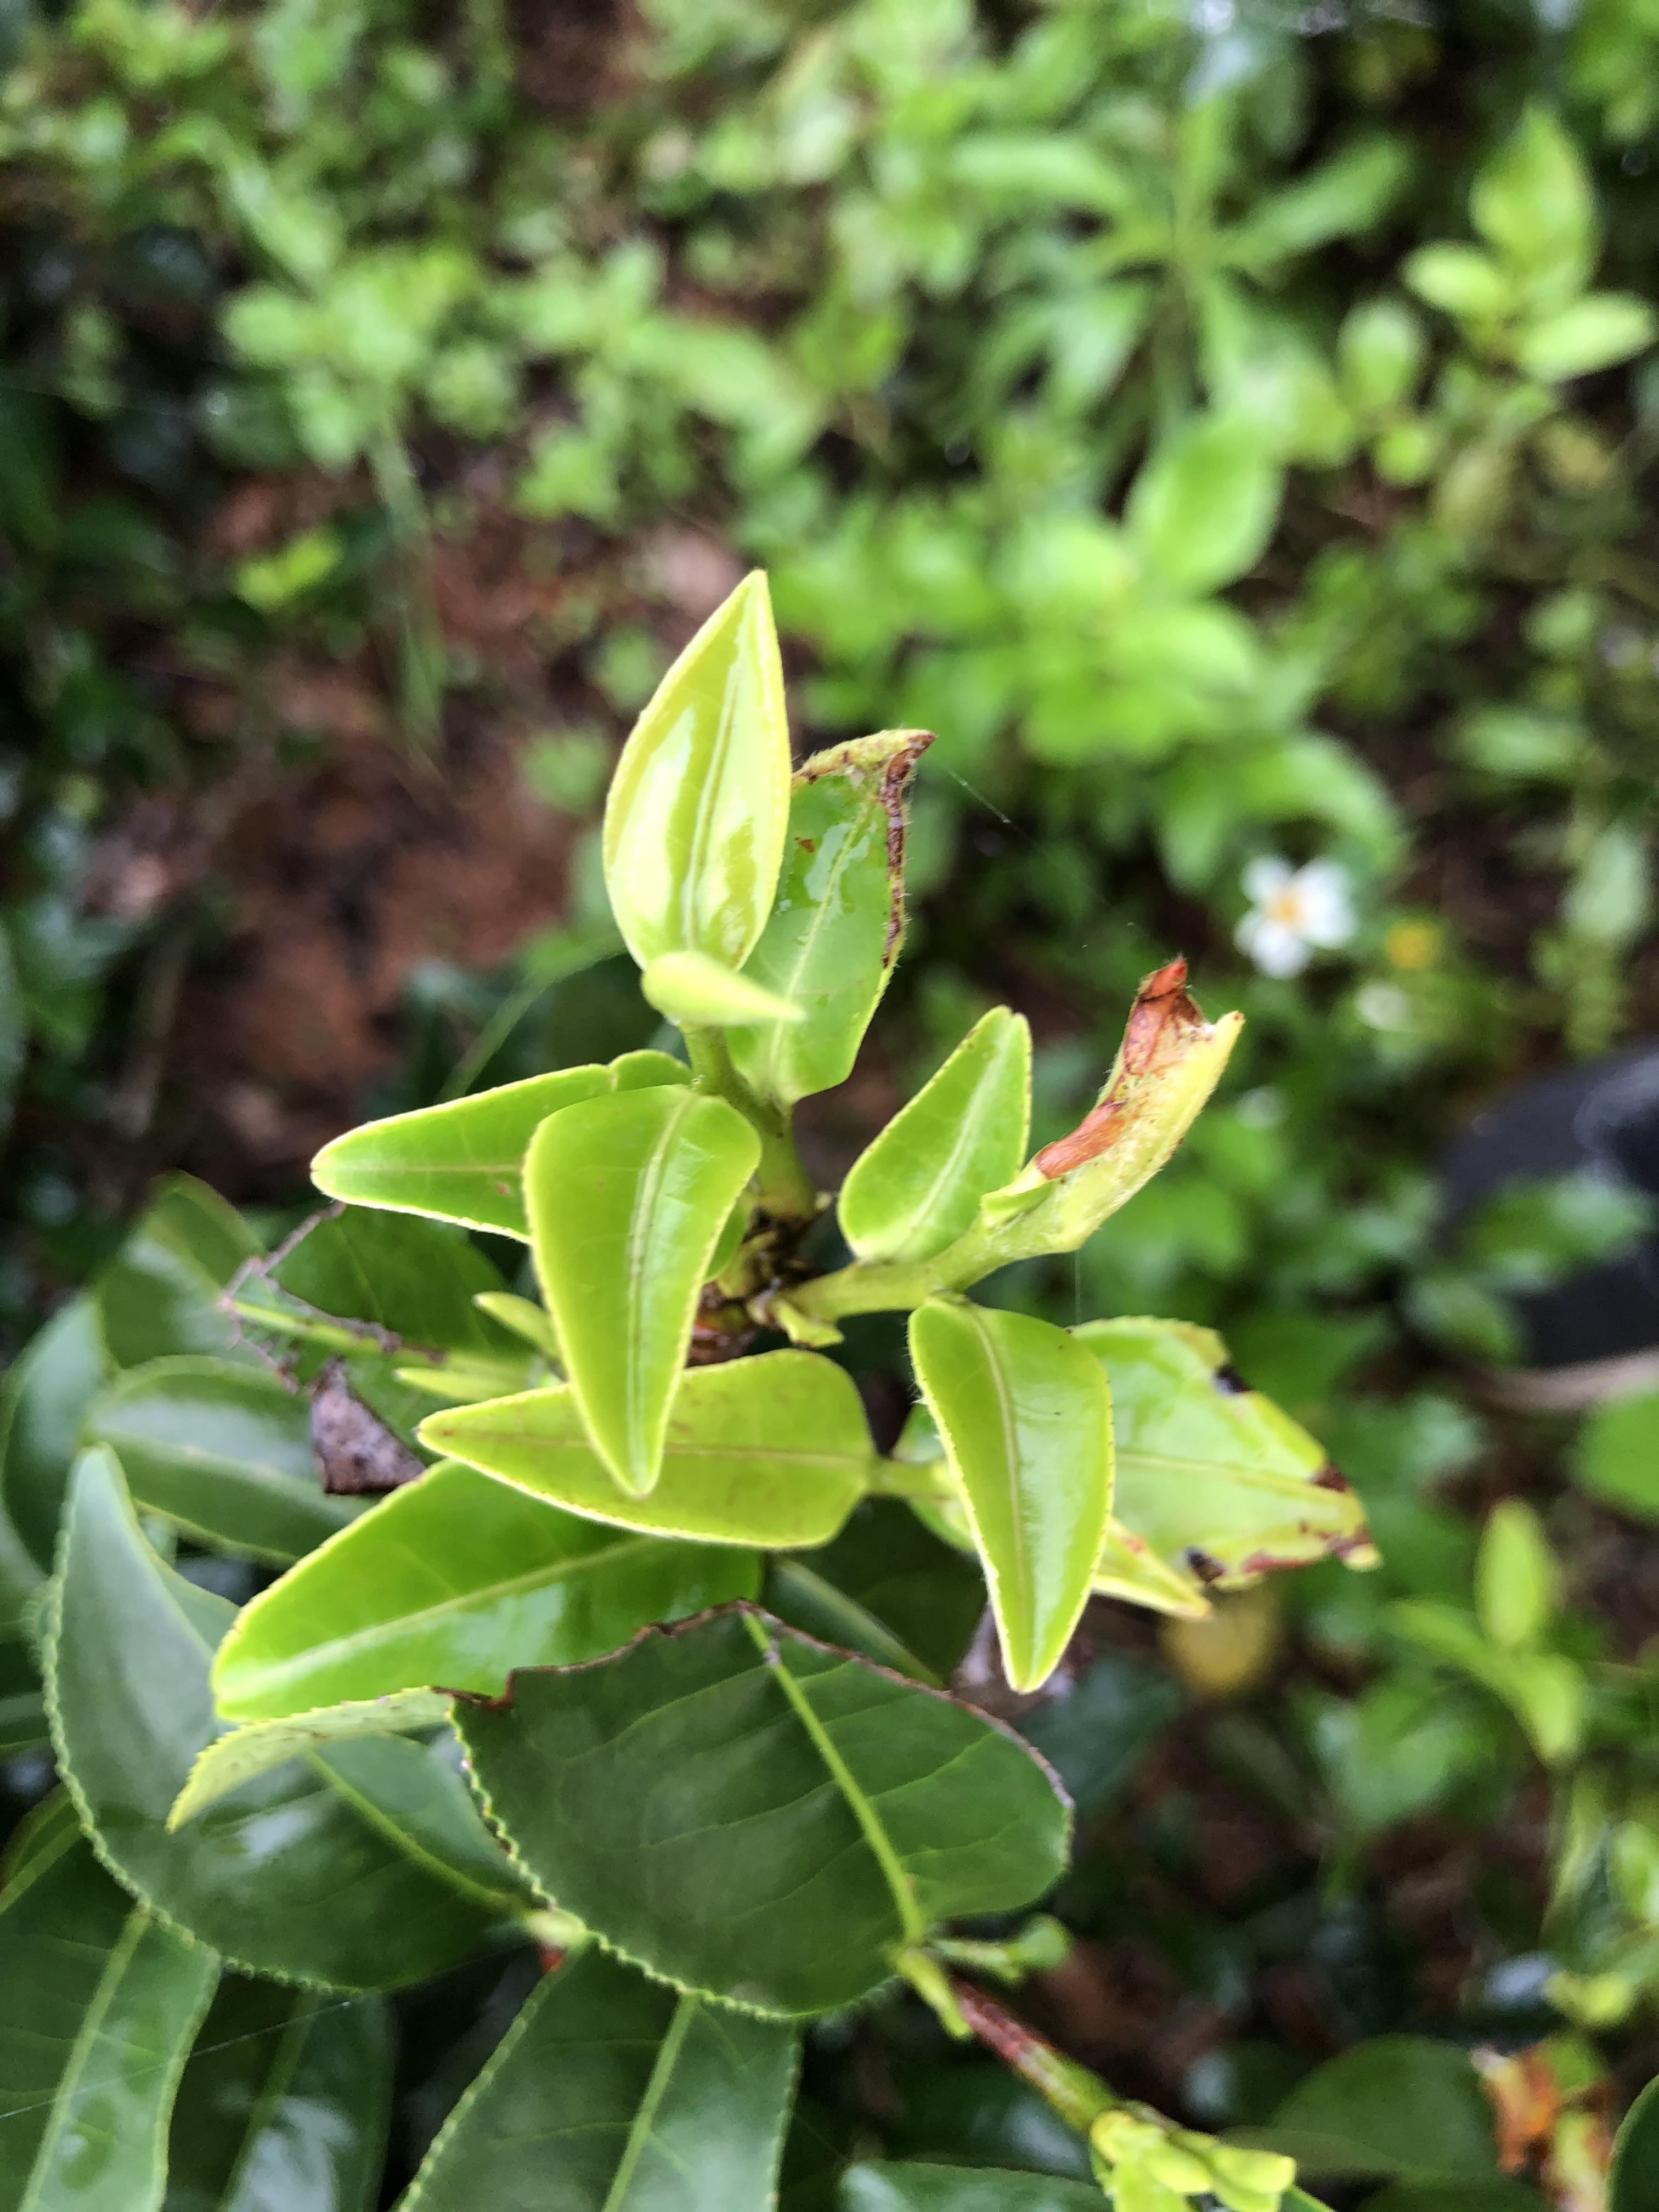mosquito_late: (1053, 1308, 1387, 1623)
tortrix: (746, 723, 924, 1109)
